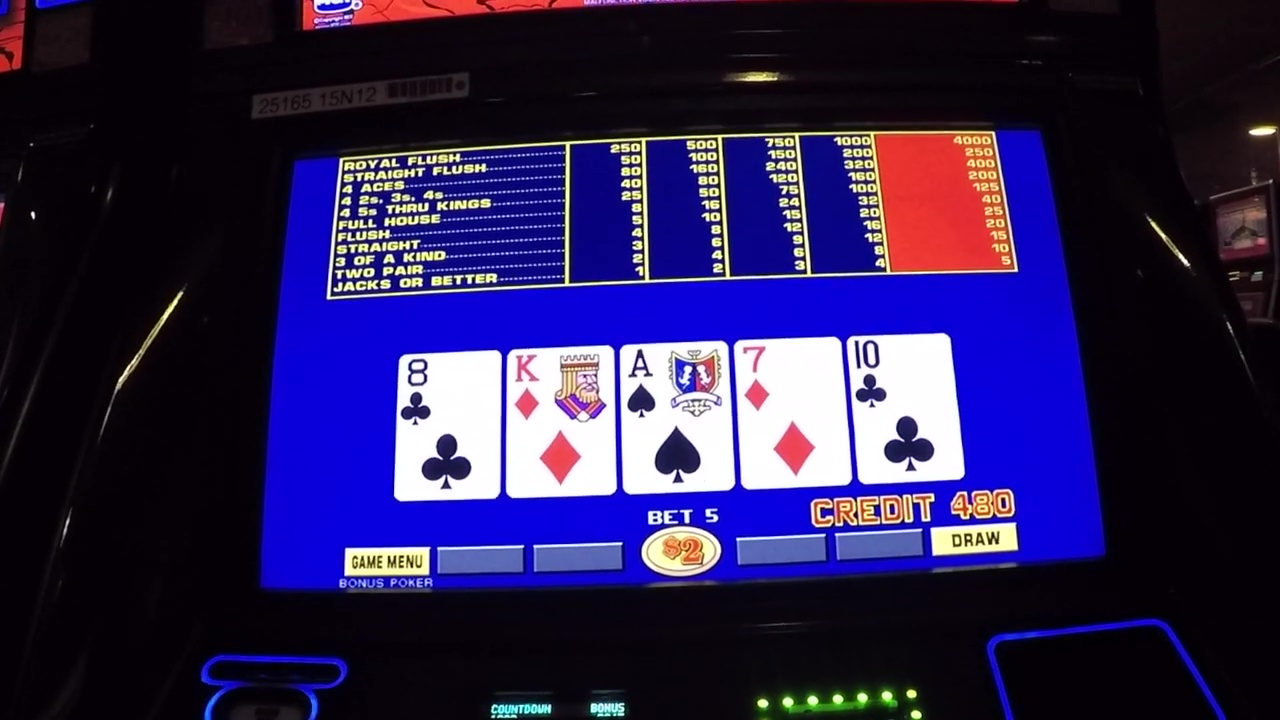C8: (402, 357, 495, 424)
CT: (850, 343, 946, 412)
D7: (737, 343, 842, 419)
DK: (512, 349, 611, 421)
SA: (621, 346, 725, 420)
